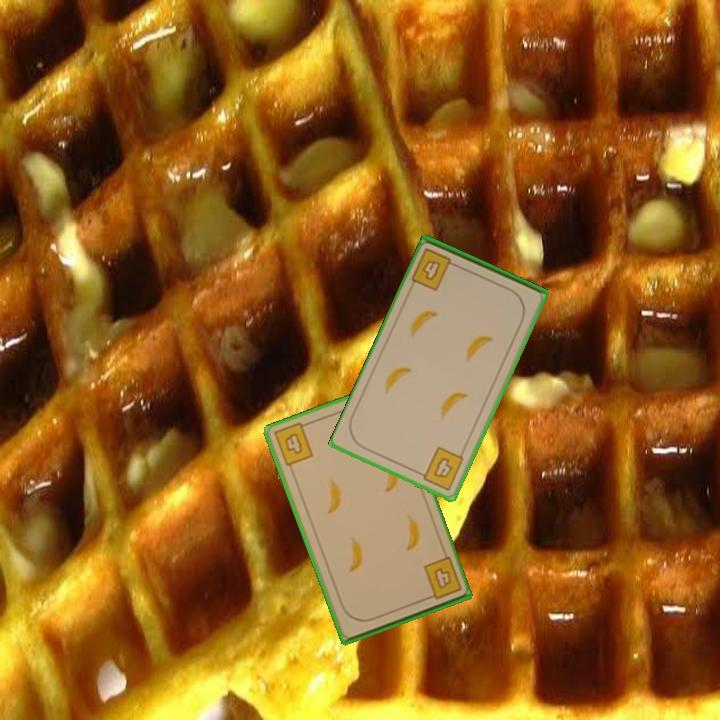4b: (408, 244, 462, 294), (414, 443, 467, 493), (270, 418, 316, 469), (420, 554, 464, 603)
